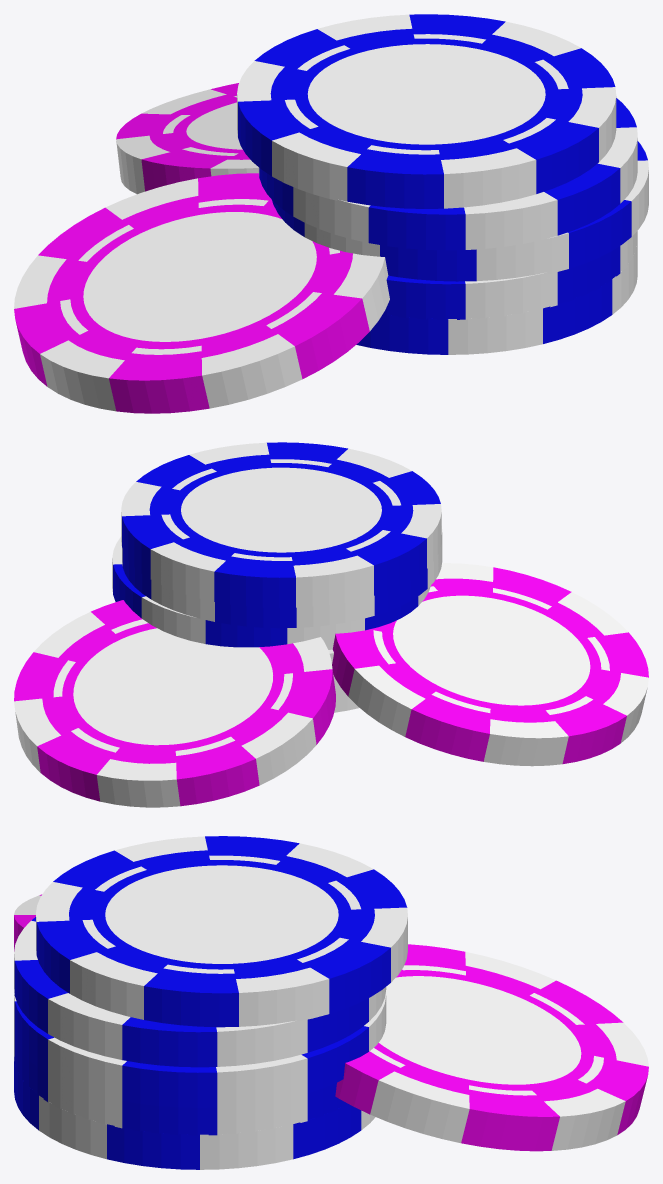
Rendered from stack_blue.gltf.
The picture shows the model from 3 angles, top to bottom: view 1: azimuth 30°, elevation 25°; view 2: azimuth 150°, elevation 25°; view 3: azimuth 270°, elevation 25°; orthographic projection. The views are drawn at different scales.
Visible parts, largest first — view 1: sidetwo, Cylinder.004, Cylinder.003, Cylinder.002, sideone, Cylinder, Cylinder.001; view 2: sideone, sidetwo, Cylinder.004, Cylinder.003, Cylinder.002; view 3: Cylinder.004, sideone, Cylinder.003, Cylinder.002, Cylinder, Cylinder.001, sidetwo.
Boxes of the visible parts, <box> form: sidetwo: <box>14,173,389,413</box>; Cylinder.004: <box>237,14,616,208</box>; Cylinder.003: <box>258,98,637,250</box>; Cylinder.002: <box>272,141,648,281</box>; sideone: <box>116,83,258,194</box>; Cylinder: <box>356,243,637,354</box>; Cylinder.001: <box>382,231,637,319</box>; sideone: <box>14,600,335,807</box>; sidetwo: <box>332,563,648,766</box>; Cylinder.004: <box>121,442,441,607</box>; Cylinder.003: <box>122,526,442,628</box>; Cylinder.002: <box>112,536,430,649</box>; Cylinder.004: <box>36,836,407,1027</box>; sideone: <box>335,944,648,1151</box>; Cylinder.003: <box>14,917,386,1067</box>; Cylinder.002: <box>14,992,386,1107</box>; Cylinder: <box>14,1057,375,1169</box>; Cylinder.001: <box>14,1030,348,1135</box>; sidetwo: <box>14,894,41,951</box>.
Size of the model in its own units: 5.12 by 1.59 by 4.91.
